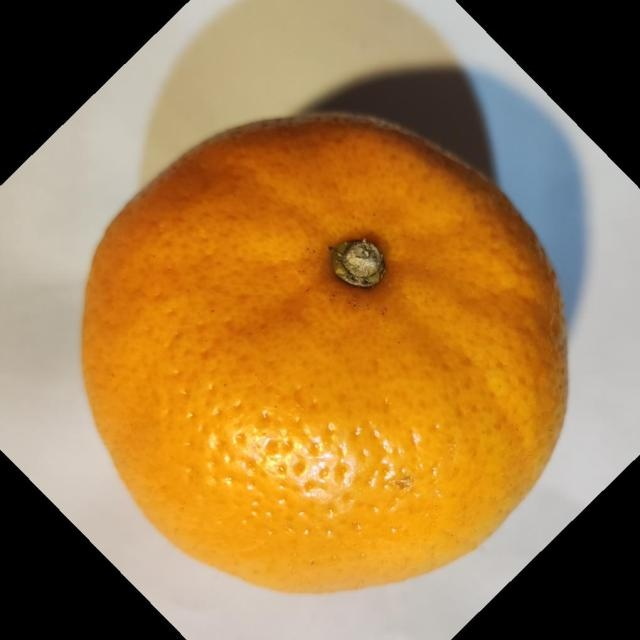agrume: (79, 110, 570, 594)
